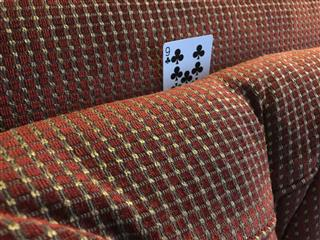NineOfClubs: (162, 33, 213, 90)
